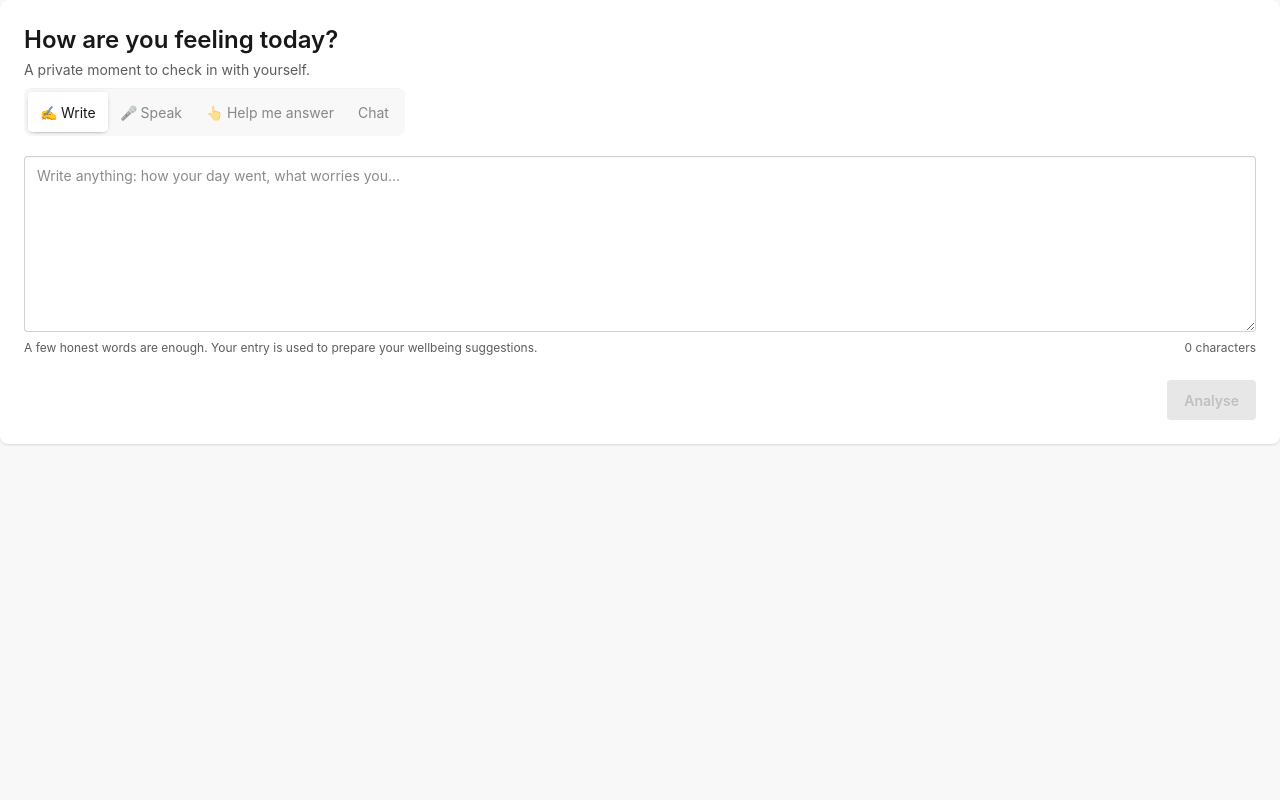
Test: Journal : onglet texte › erreur API : toast d'erreur et pas de navigation
This screenshot has width=1280, height=800.
Type "I am stressed" into the text box with placeholder "Write anything: how your day went, what worries you…" at (640, 244), box 24,156 -> 1256,332
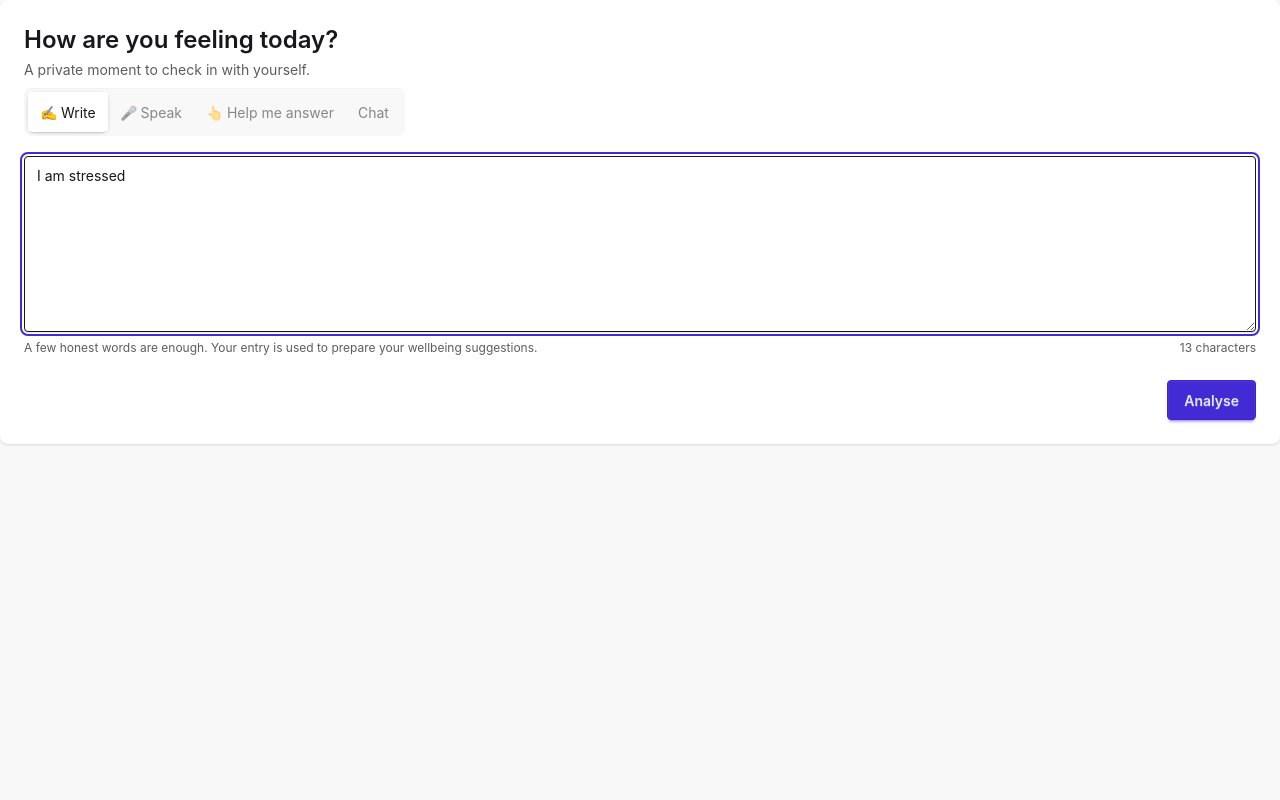
Click the button "Analyse" at (1212, 400), box 1167,380 -> 1256,420
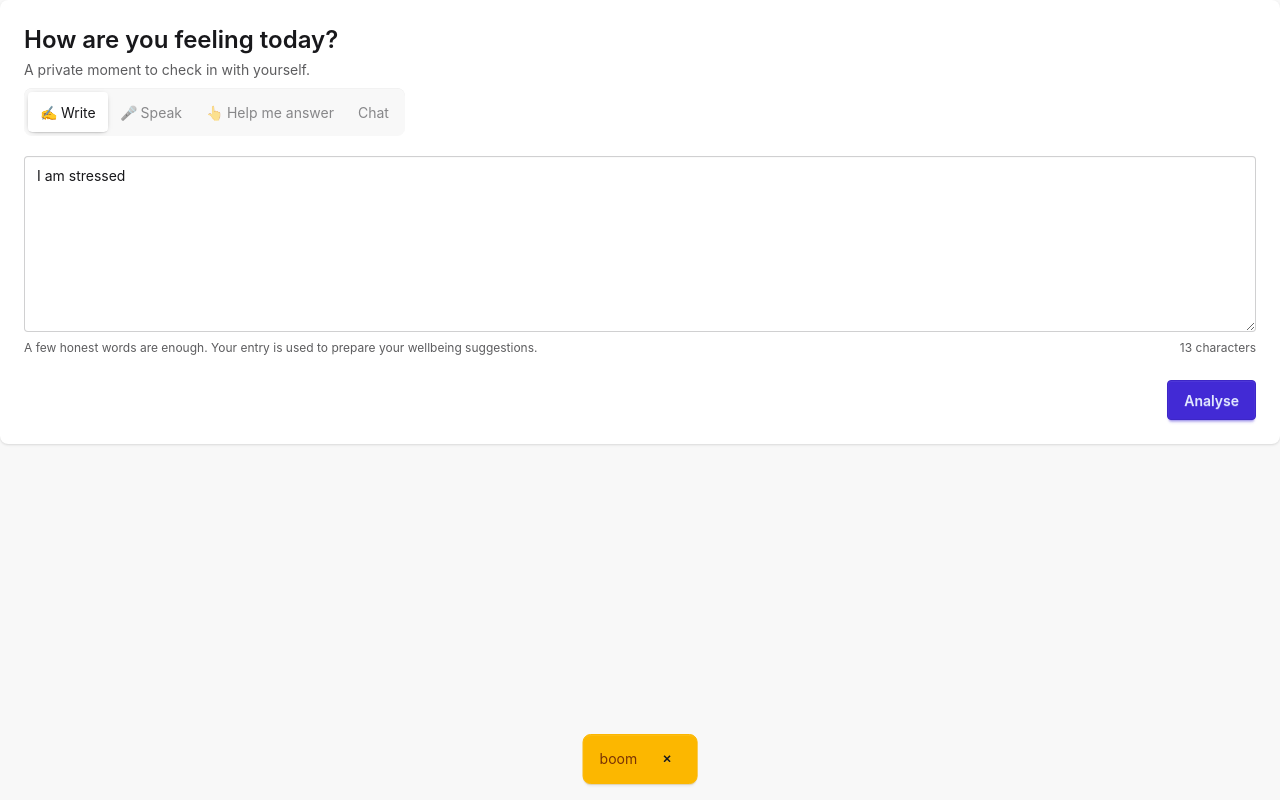
Expected: the text "boom" is shown, 600,749 -> 637,769
